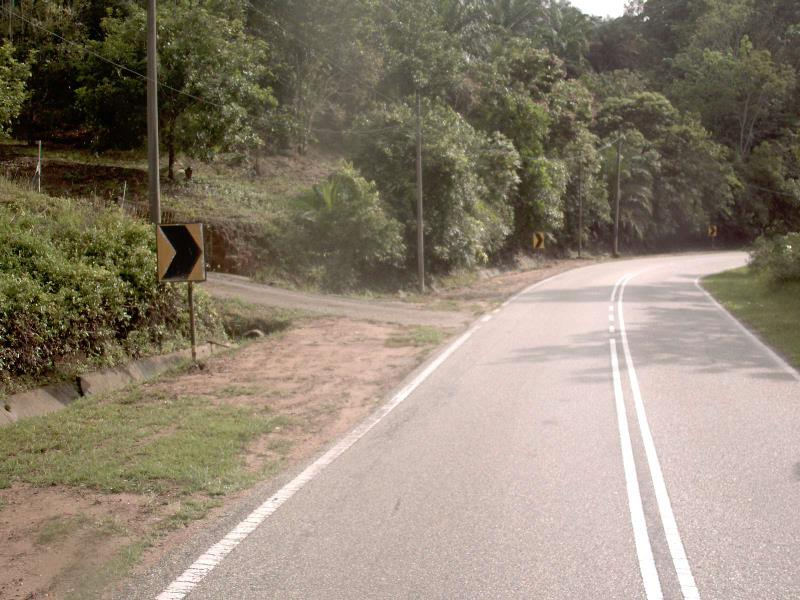traffic_sign: (145, 212, 217, 296)
